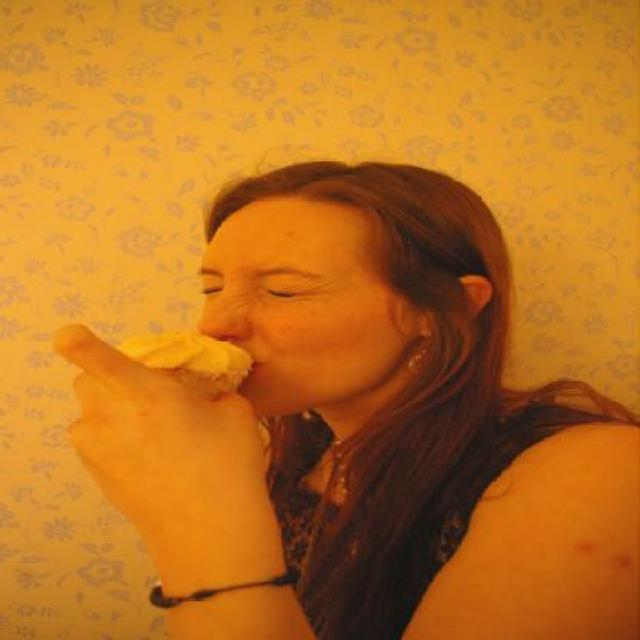Muffin: (115, 328, 252, 404)
